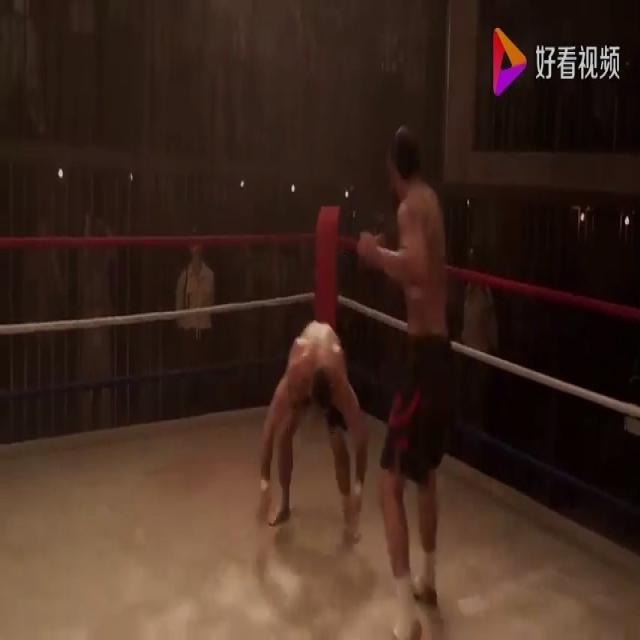fight: (249, 124, 468, 639)
